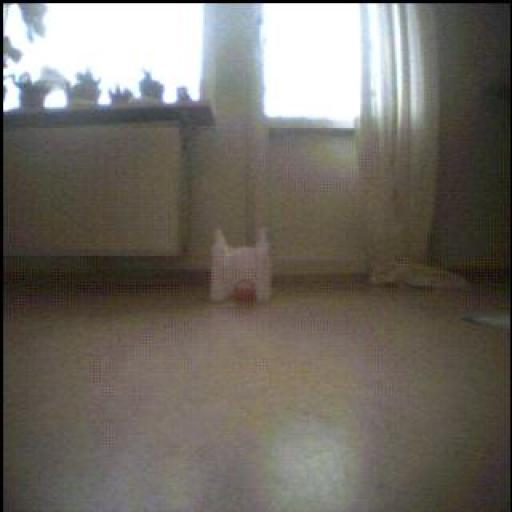Basket: (233, 281, 257, 305)
